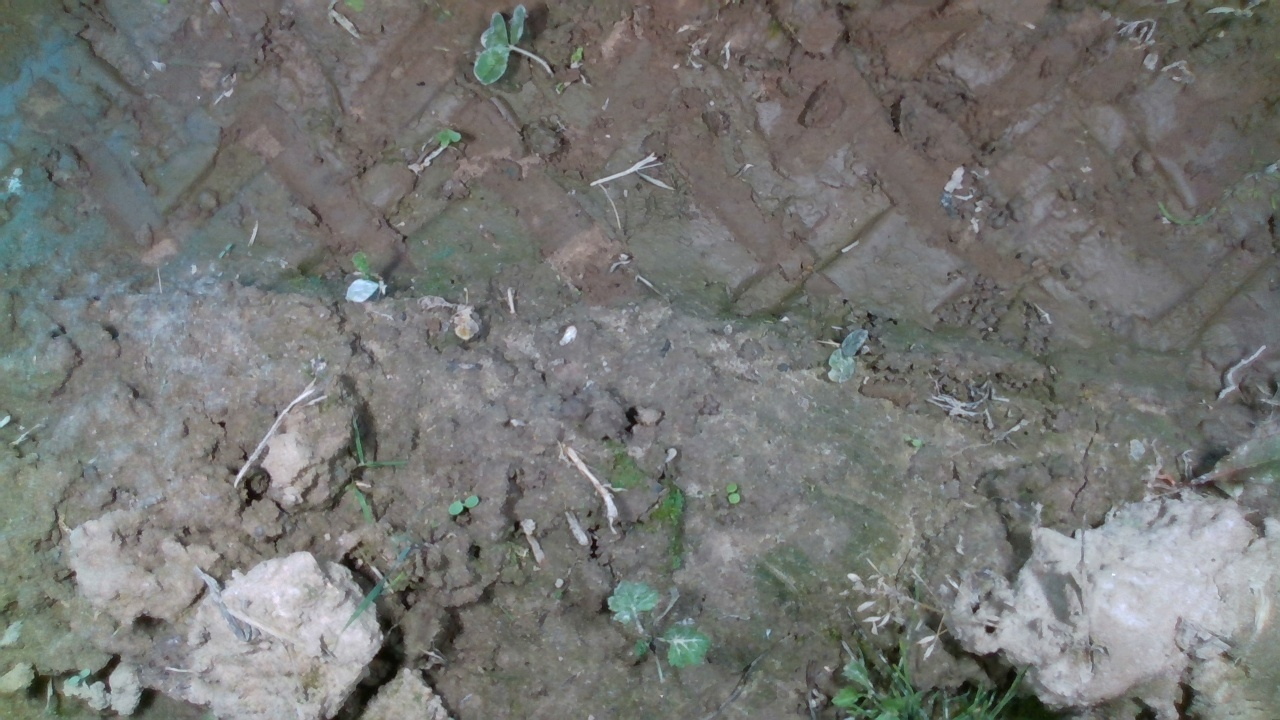weed: (725, 478, 741, 506)
